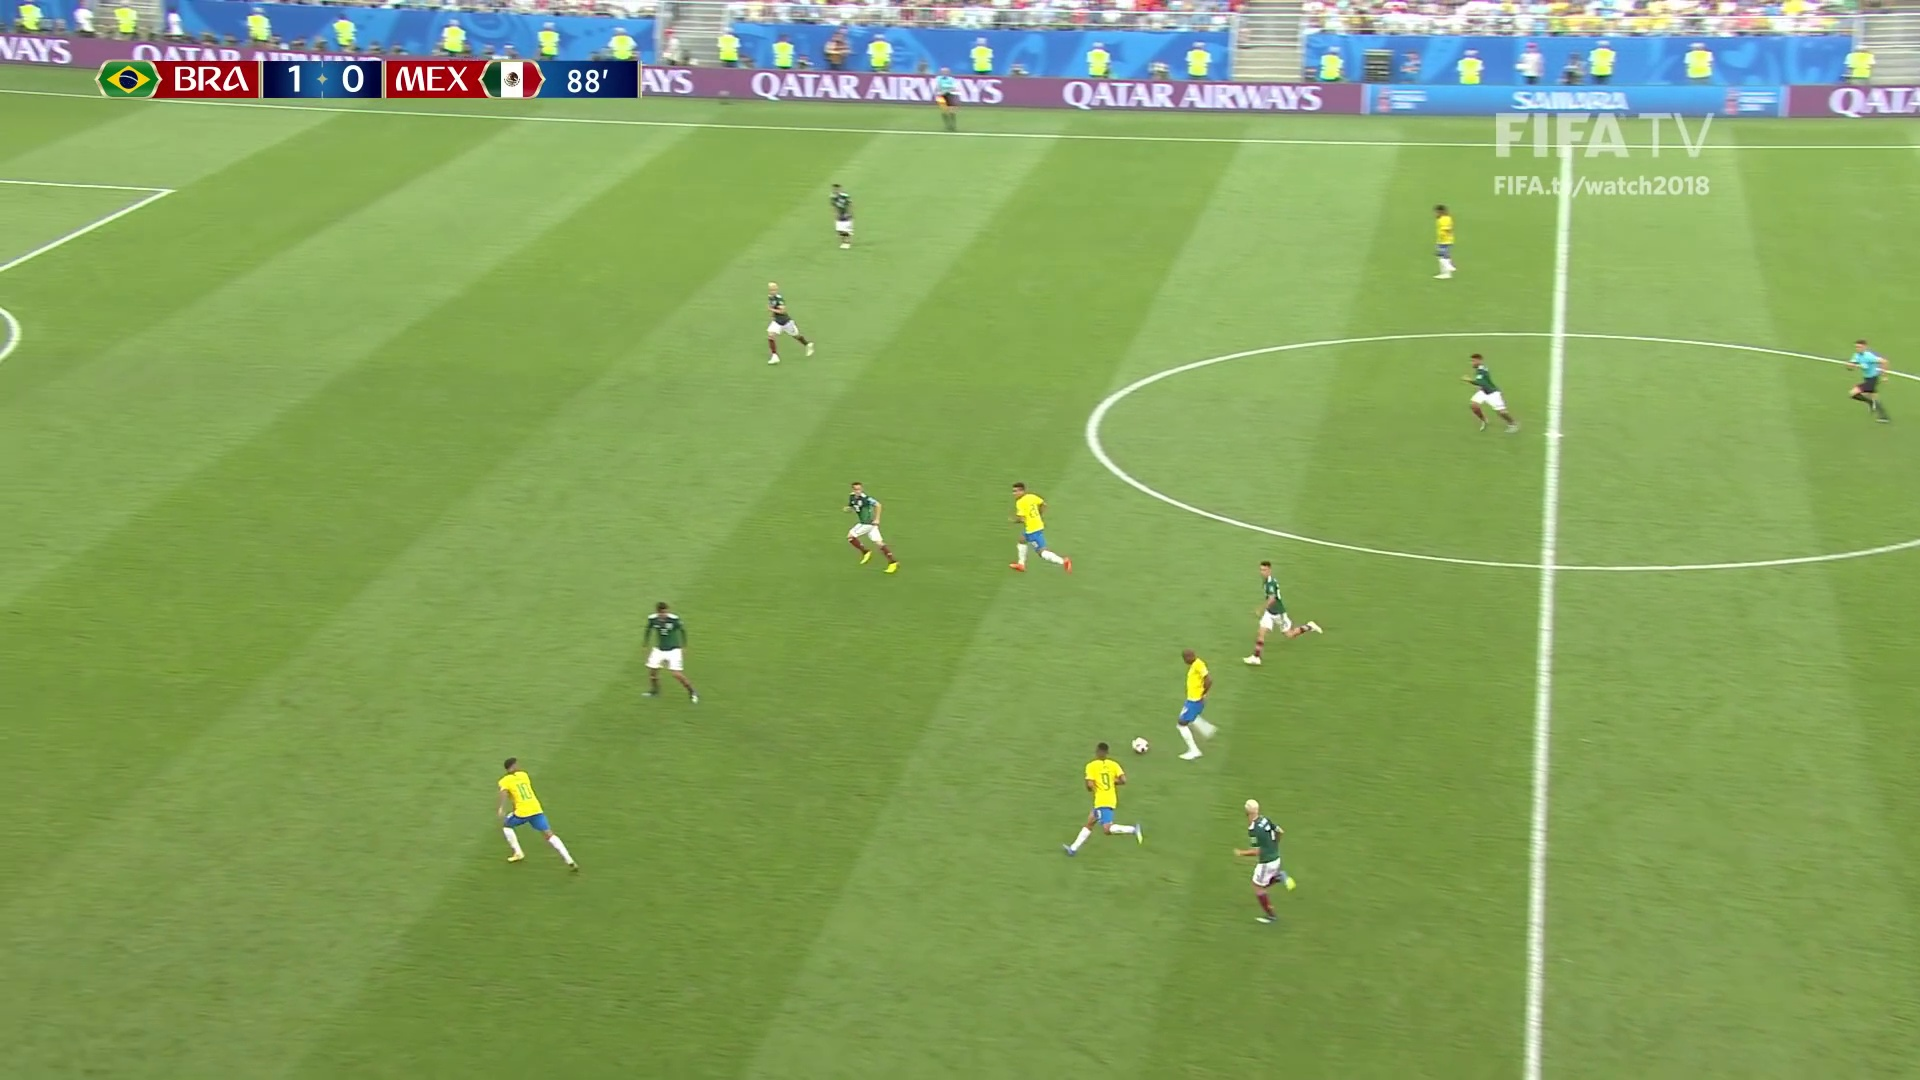ball: (1133, 737, 1149, 754)
person: (498, 756, 573, 869), (1244, 561, 1316, 662), (1070, 741, 1136, 850), (1235, 800, 1294, 920), (1008, 483, 1073, 572), (640, 600, 698, 699), (1176, 647, 1214, 767), (1463, 352, 1518, 432), (846, 485, 898, 571), (763, 282, 812, 363), (830, 185, 857, 250), (1435, 206, 1455, 278)
